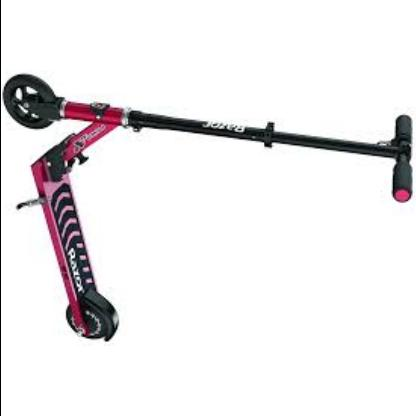bike: (3, 73, 414, 345)
